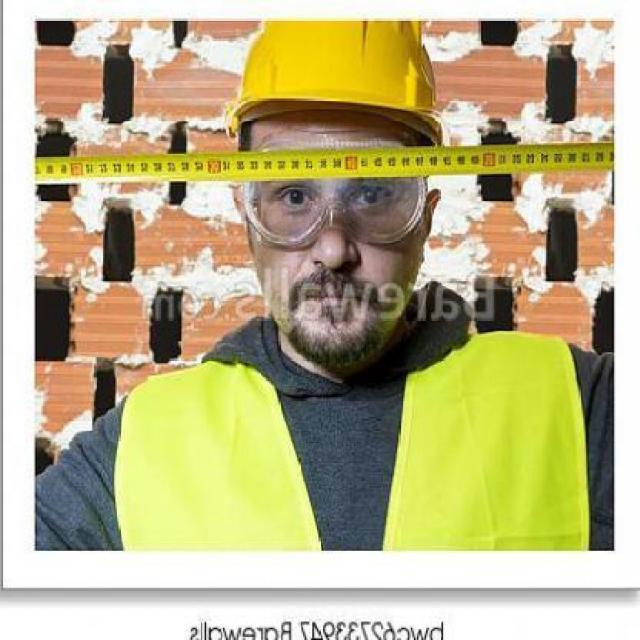Goggles: (229, 120, 443, 253)
